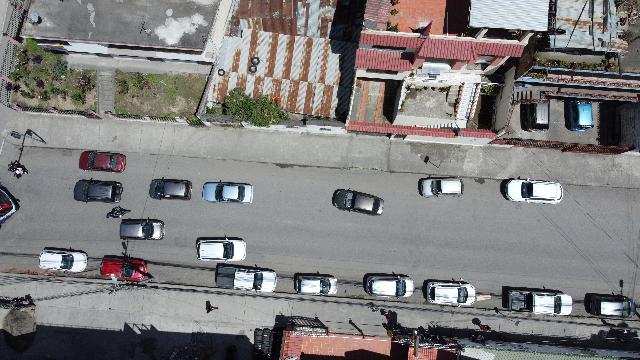Vehiculo: (507, 287, 573, 317), (215, 264, 277, 292), (100, 255, 154, 284), (502, 178, 562, 204), (422, 279, 476, 307), (332, 188, 384, 216), (588, 292, 636, 320), (196, 236, 247, 262), (362, 273, 413, 299), (38, 248, 88, 274), (74, 178, 122, 204), (203, 181, 253, 203), (294, 272, 338, 296), (78, 151, 125, 173), (120, 218, 164, 240), (149, 178, 191, 200), (418, 178, 464, 198), (1, 184, 20, 228)
